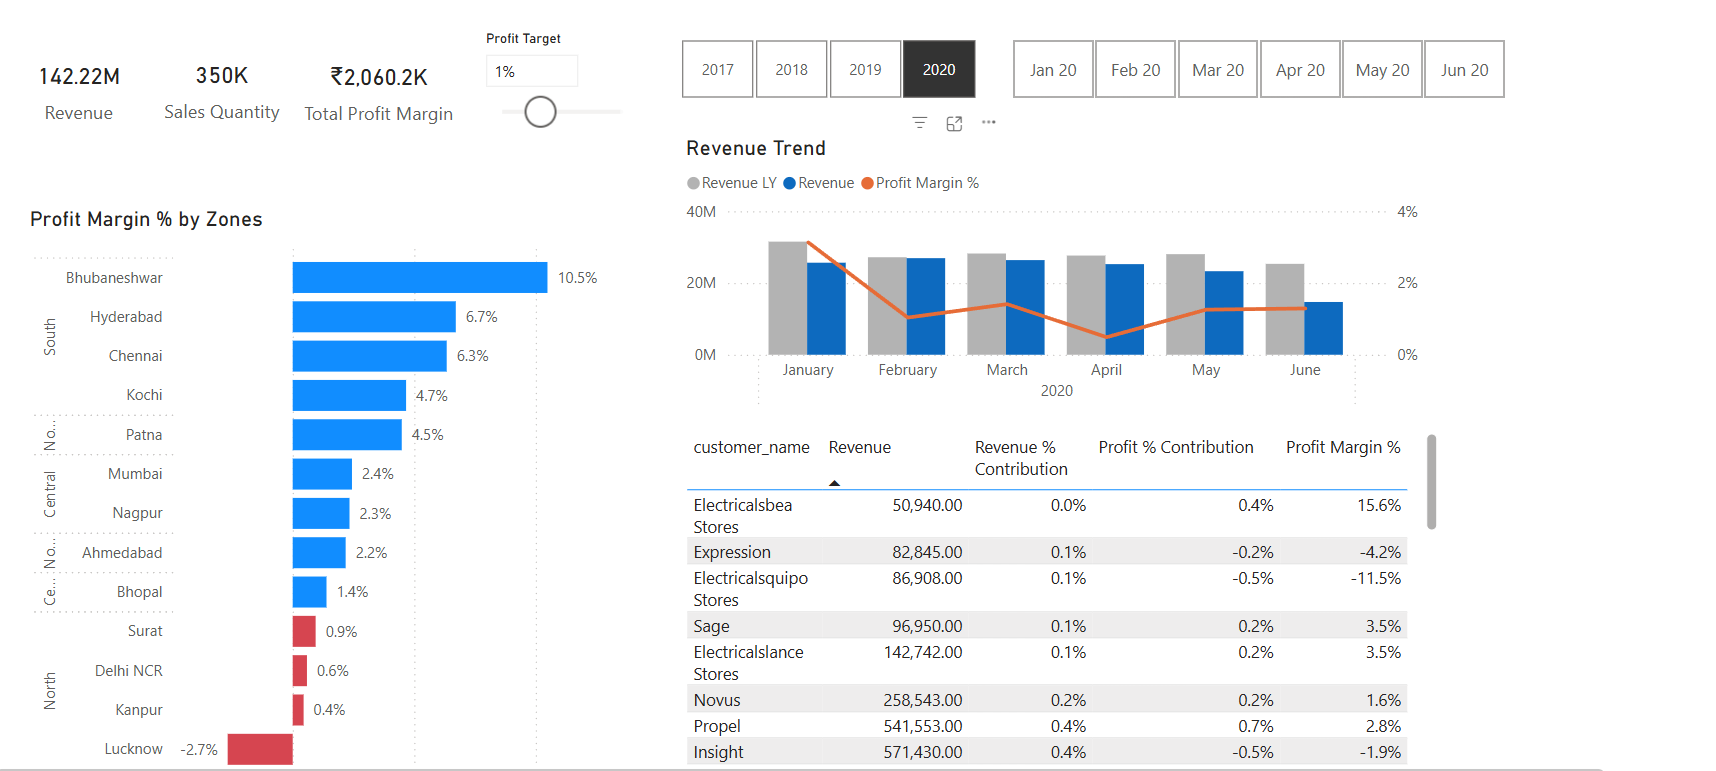

The dashboard page shown, as its layout file describes it:
{"tool":"powerbi","page":{"name":"Performance Insights","canvas":[1460,720],"ordinal":2},"visuals":[{"type":"card","fields":{"Values":["Measure Table.Revenue"]},"box":[0,8,112,111],"z":0},{"type":"card","fields":{"Values":["Sum(sales transactions.sales_qty)"]},"box":[112,7,117,111],"z":1000},{"type":"tableEx","title":"Top 5 Customers","fields":{"Values":["sales customers.custmer_name","Measure Table.Revenue","Measure Table.Revenue % Contribution","Measure Table.Profit % Contribution","Measure Table.Profit Margin %"]},"box":[537,334,611,312],"z":2000},{"type":"slicer","fields":{"Values":["sales date.year"]},"box":[513,18,284,59],"z":3000},{"type":"slicer","fields":{"Values":["sales date.cy_date"]},"box":[778,18,443,59],"z":4000},{"type":"lineClusteredColumnComboChart","title":"Revenue Trend","fields":{"Category":["sales date.cy_date.Variation.Date Hierarchy.Year","sales date.cy_date.Variation.Date Hierarchy.Month"],"Y":["Measure Table.Revenue LY","Measure Table.Revenue"],"Y2":["Measure Table.Profit Margin %"]},"box":[537,100,596,227],"z":5000},{"type":"card","fields":{"Values":["Measure Table.Total Profit Margin"]},"box":[229,7,134,114],"z":6000},{"type":"clusteredBarChart","title":"Profit Margin % by Zones","fields":{"Y":["Measure Table.Profit Margin %"],"Category":["sales markets.zone","sales markets.markets_name"]},"box":[12,157,501,489],"z":7000},{"type":"slicer","fields":{"Values":["Profit Target.Profit Target"]},"box":[369,11,144,103],"z":8000}]}

Visuals, with their boxes on the page's 1460x720 design canvas (x1, y1, x2, y2). These are canvas units, not pixel positions in the 1716x771 screenshot, which may show the page scaled, cropped or inside an application window:
card - Measure Table.Revenue: l=0, t=8, r=112, b=119
card - Sum(sales transactions.sales_qty): l=112, t=7, r=229, b=118
"Top 5 Customers" tableEx: l=537, t=334, r=1148, b=646
slicer - sales date.year: l=513, t=18, r=797, b=77
slicer - sales date.cy_date: l=778, t=18, r=1221, b=77
"Revenue Trend" lineClusteredColumnComboChart: l=537, t=100, r=1133, b=327
card - Measure Table.Total Profit Margin: l=229, t=7, r=363, b=121
"Profit Margin % by Zones" clusteredBarChart: l=12, t=157, r=513, b=646
slicer - Profit Target.Profit Target: l=369, t=11, r=513, b=114
